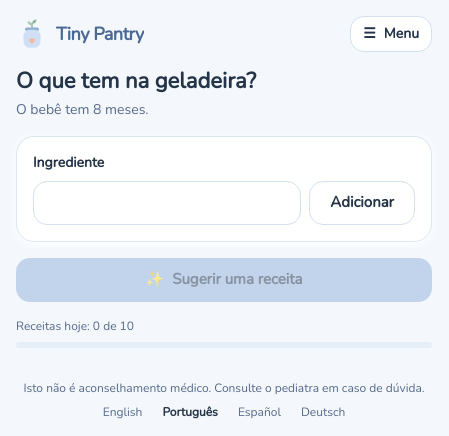
Scenario: the open menu is fully in pt
The width and height of the screenshot is (449, 436).
Click the button "☰ Menu" at (391, 34), box [350,16,432,52]
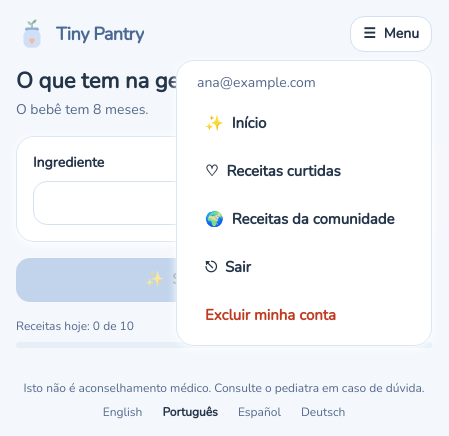
Now the button "✨ Início" is shown, box [185,101,423,145]
Now the button "♡ Receitas curtidas" is shown, box [185,149,423,193]
Now the button "🌍 Receitas da comunidade" is shown, box [185,197,423,241]
